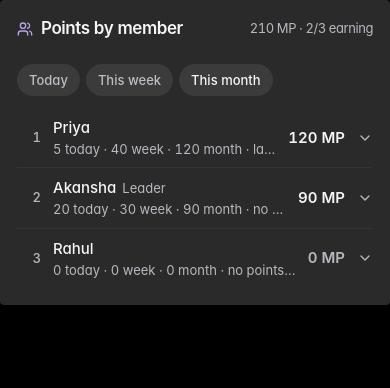
Test case: MemberPointsCard › ranks members by the chosen period and shows what the points were for
This screenshot has width=390, height=388.
Expected: the text "210 MP · 2/3 earning" is shown, [250,19,373,38]
Click the button "Today". click: (48, 80)
box: [17,64,80,96]
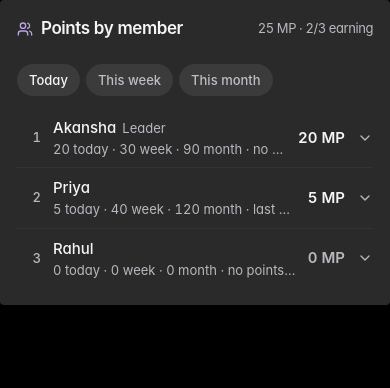
Expected: the button that starts with "Akansha" is shown, [17,108,373,167]
Result: the text "25 MP · 2/3 earning" is shown at [258,19,373,38]
Click the button "2 Priya 5 today · 40 week · 120 month · last Just now 5 MP". click: (71, 188)
box: [17,168,373,228]
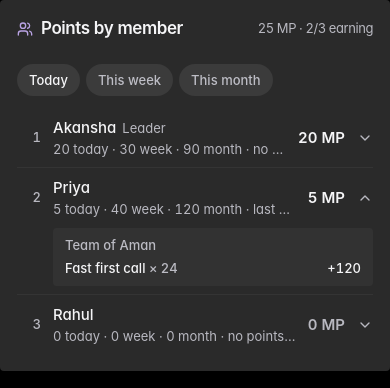
Result: the text "Team of Aman" is shown at [65,237,156,253]
Result: the text "+120" is shown at [327,259,361,278]
